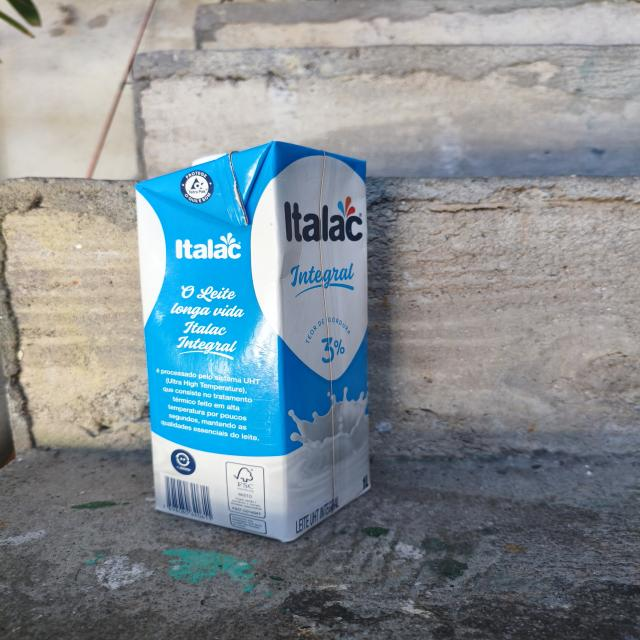Caixa de Leite: (129, 136, 417, 552)
